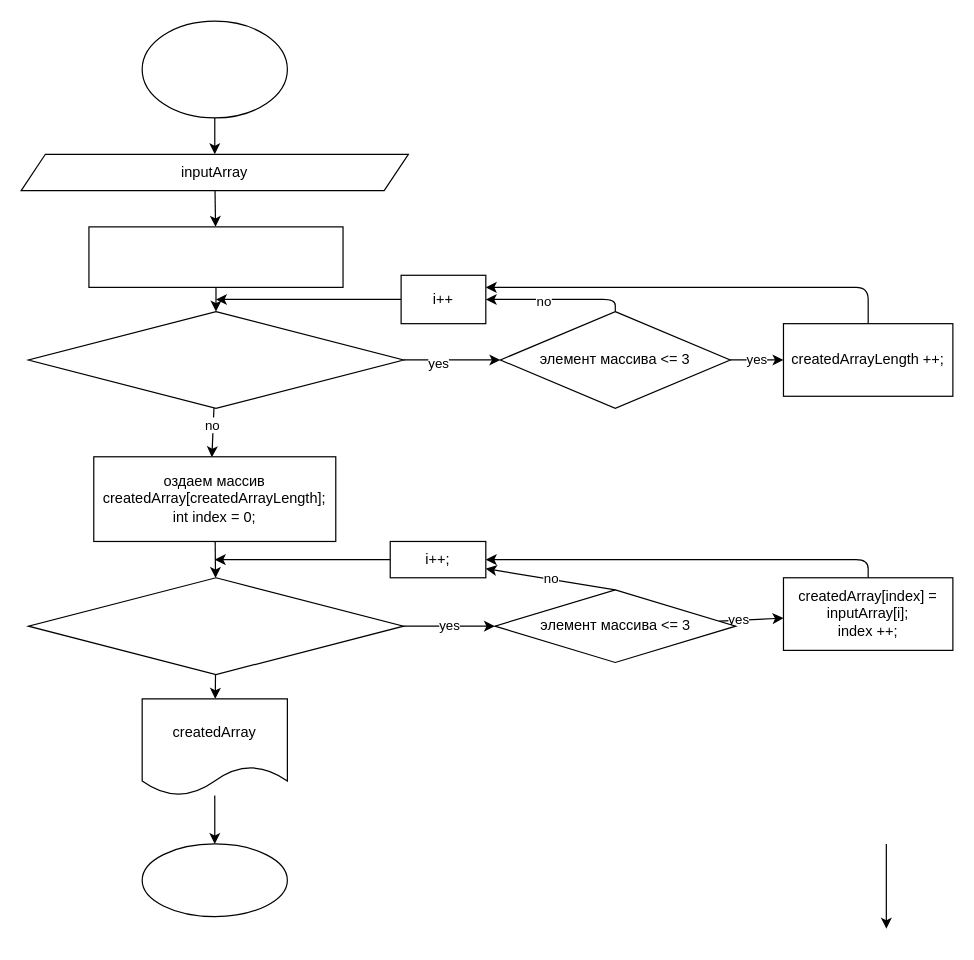
This 974x960 diagram has some shape labels left out. The box of each missing label's shape, as (x1, y1, x2, y2) in pixels:
finish: (141, 843, 287, 917)
int createdArrayLength = 0;: (88, 226, 343, 287)
start: (141, 20, 287, 118)
вновь по всем элементам массива i = 0; i < inputArray.length: (27, 577, 404, 675)
проходим по всем элементам массива i = 0; i < inputArray.length: (27, 310, 404, 408)
